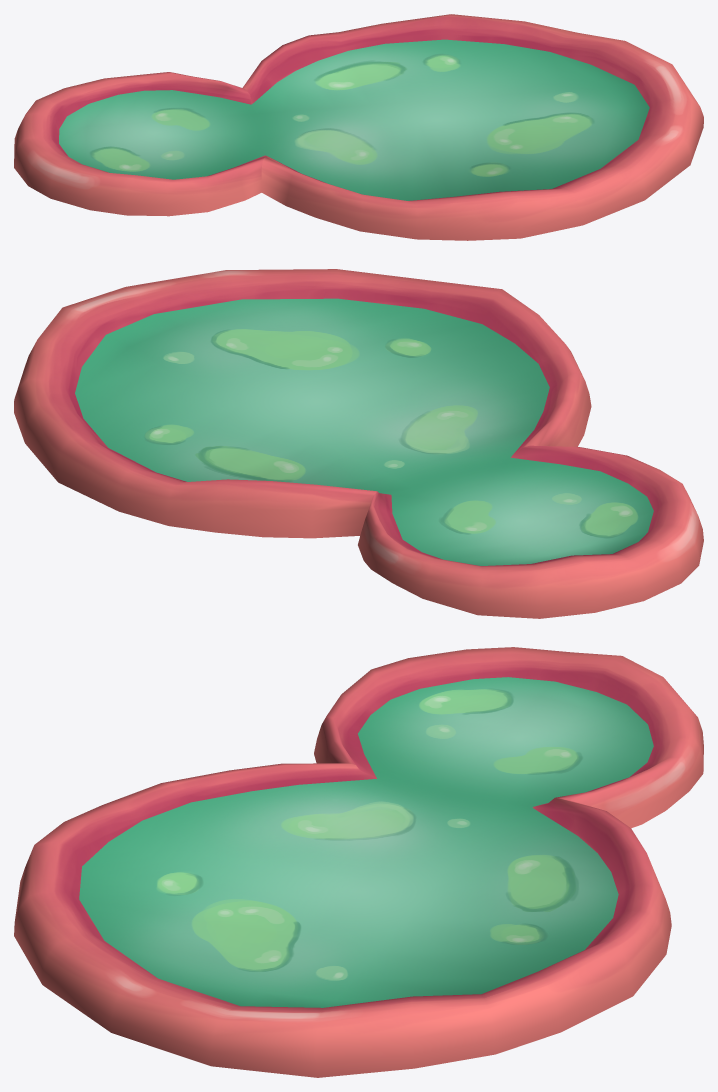
File: pool.fbx
3 views of the same model, one above another, from view 1: azimuth 30°, elevation 25°; view 2: azimuth 150°, elevation 25°; view 3: azimuth 270°, elevation 25° (orthographic). The views are drawn at different scales.
Parts seen in each view (by area): view 1: Circle; view 2: Circle; view 3: Circle.
Boxes of the visible parts, x1,y1,x2,y2 form: Circle: (14, 14, 703, 240); Circle: (14, 269, 703, 618); Circle: (14, 647, 703, 1077).
Size of the model in its own units: 756 by 48.45 by 553.
